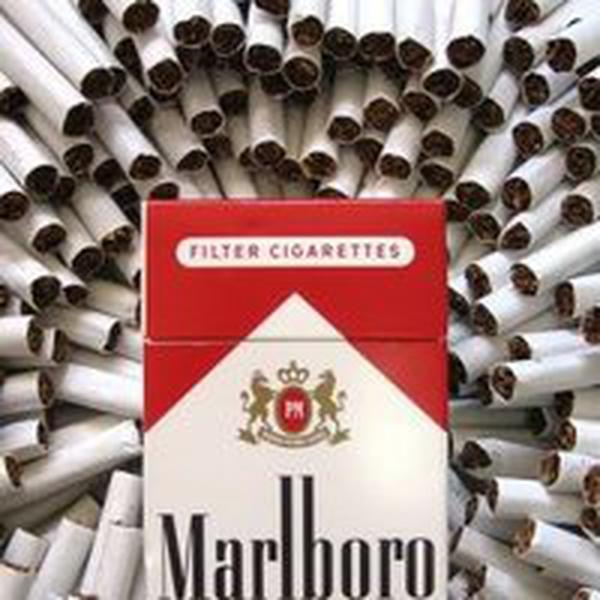marlboro_red: (140, 206, 446, 600)
